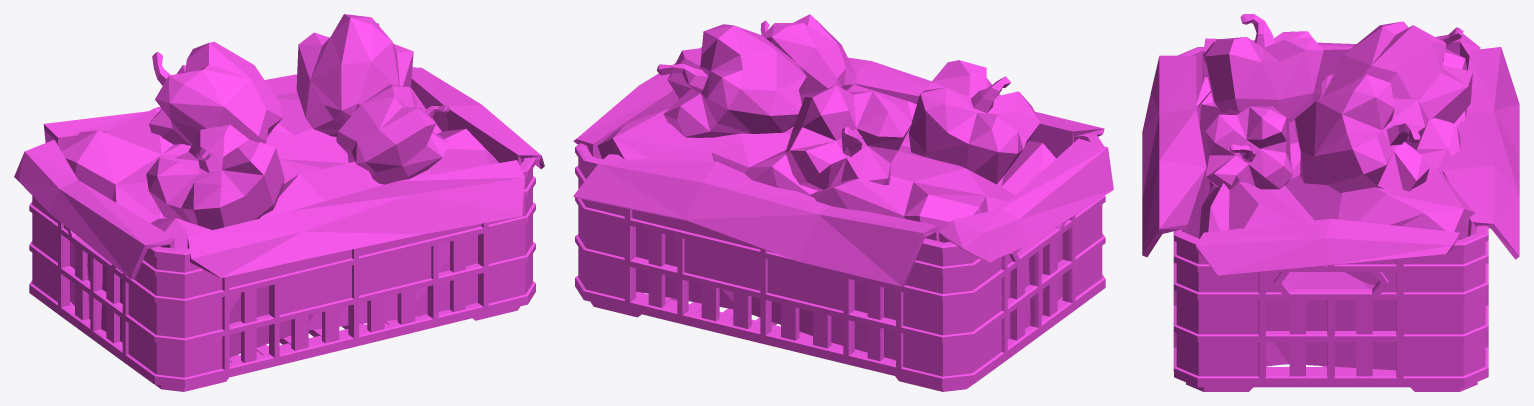
The model's file is SM_Crate_Plastic_Small_Paper_Peppers.fbx.
3 views of the same model, side by side, from view 1: azimuth 30°, elevation 25°; view 2: azimuth 150°, elevation 25°; view 3: azimuth 270°, elevation 25° (orthographic). The views are drawn at different scales.
Visible parts, largest first — view 1: SM_Crate_Plastic_Small_Paper_Peppers; view 2: SM_Crate_Plastic_Small_Paper_Peppers; view 3: SM_Crate_Plastic_Small_Paper_Peppers.
Boxes of the visible parts, left/top/right/bottom form: SM_Crate_Plastic_Small_Paper_Peppers: left=14, top=14, right=544, bottom=391; SM_Crate_Plastic_Small_Paper_Peppers: left=573, top=14, right=1113, bottom=391; SM_Crate_Plastic_Small_Paper_Peppers: left=1142, top=14, right=1519, bottom=391.
Bounding box in the file's own units: 0.663 × 0.3817 × 0.4887.
